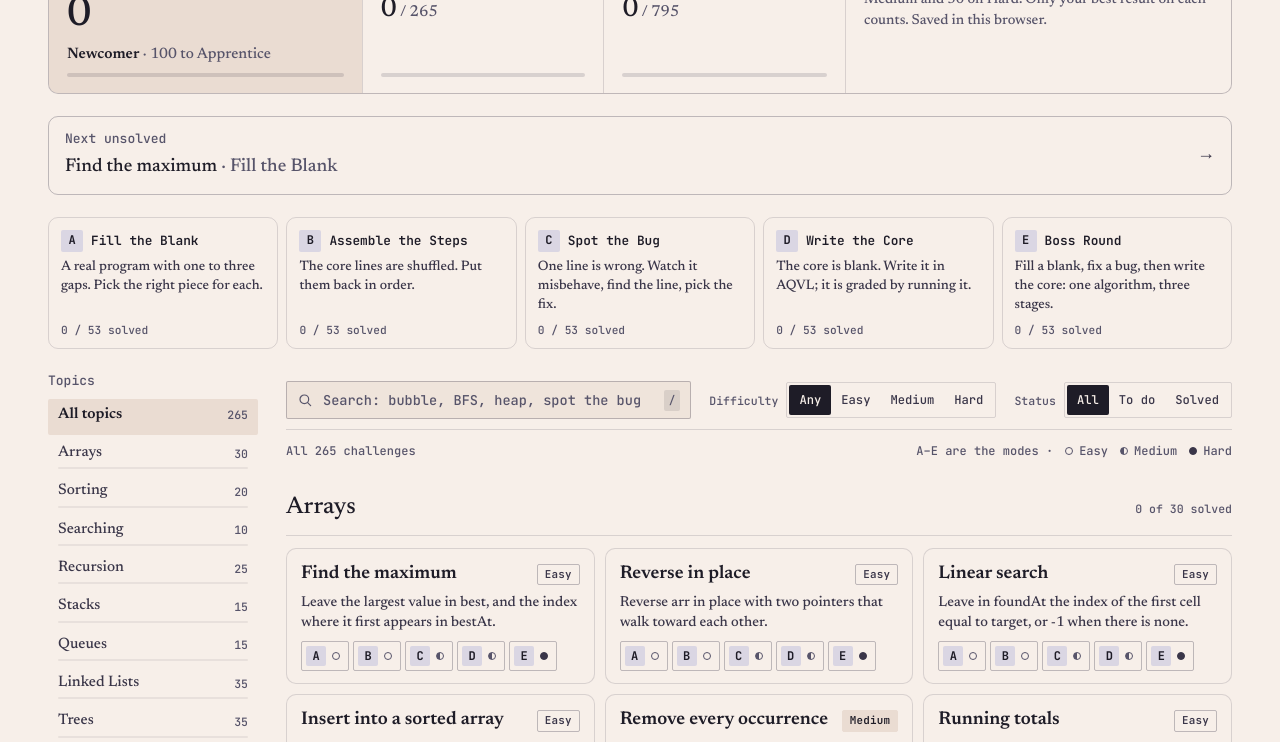
Test: Challenges page › searches, filters by topic and status, and keeps the filters in the address
(page scrolled)
In the search field named "Search challenges": (488, 400) [321,382,656,418], type "bubble"
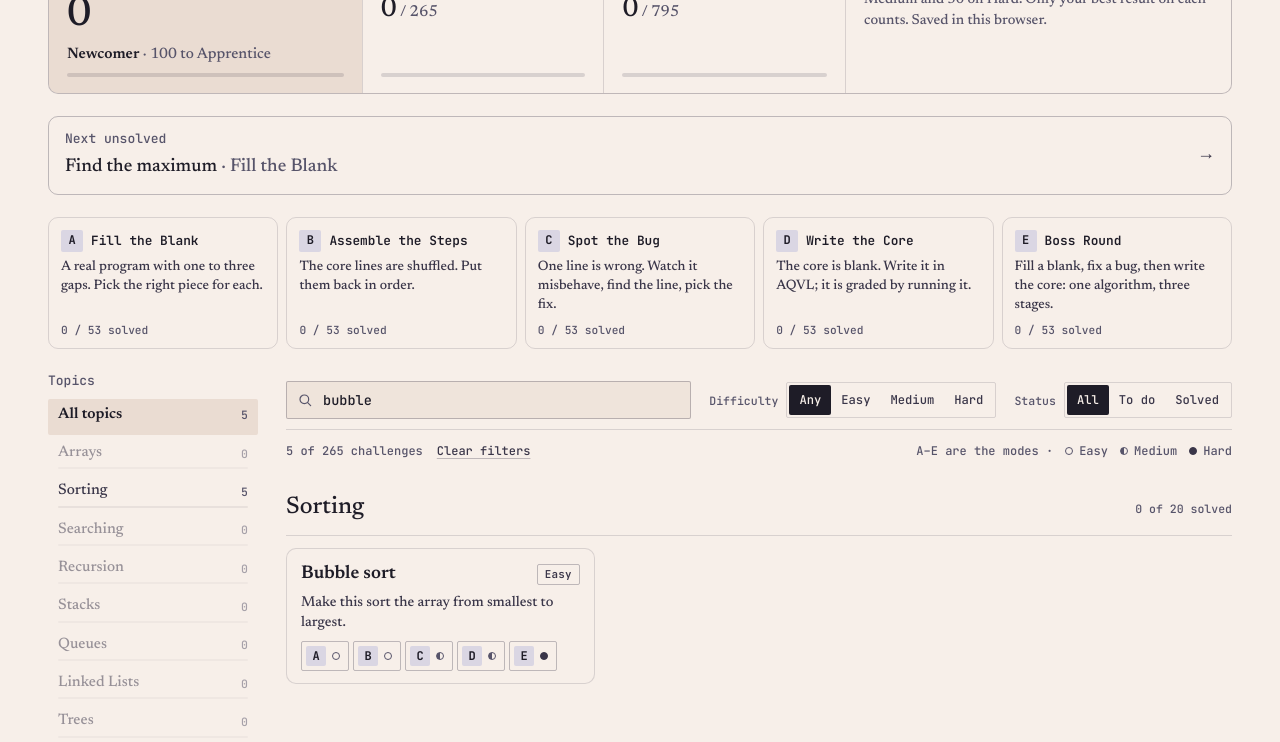
Expected: the number of links named "Bubble sort: " is 5, [301,642,349,672]; [353,642,401,672]; [405,642,453,672]; [457,642,505,672]; [509,642,557,672]
Expected: the text "5 of 265 challenges" is shown, [286,443,423,459]
Replace the text in the search field named "Search challenges" with "spot the bug heap": (501, 400) [321,382,680,418]
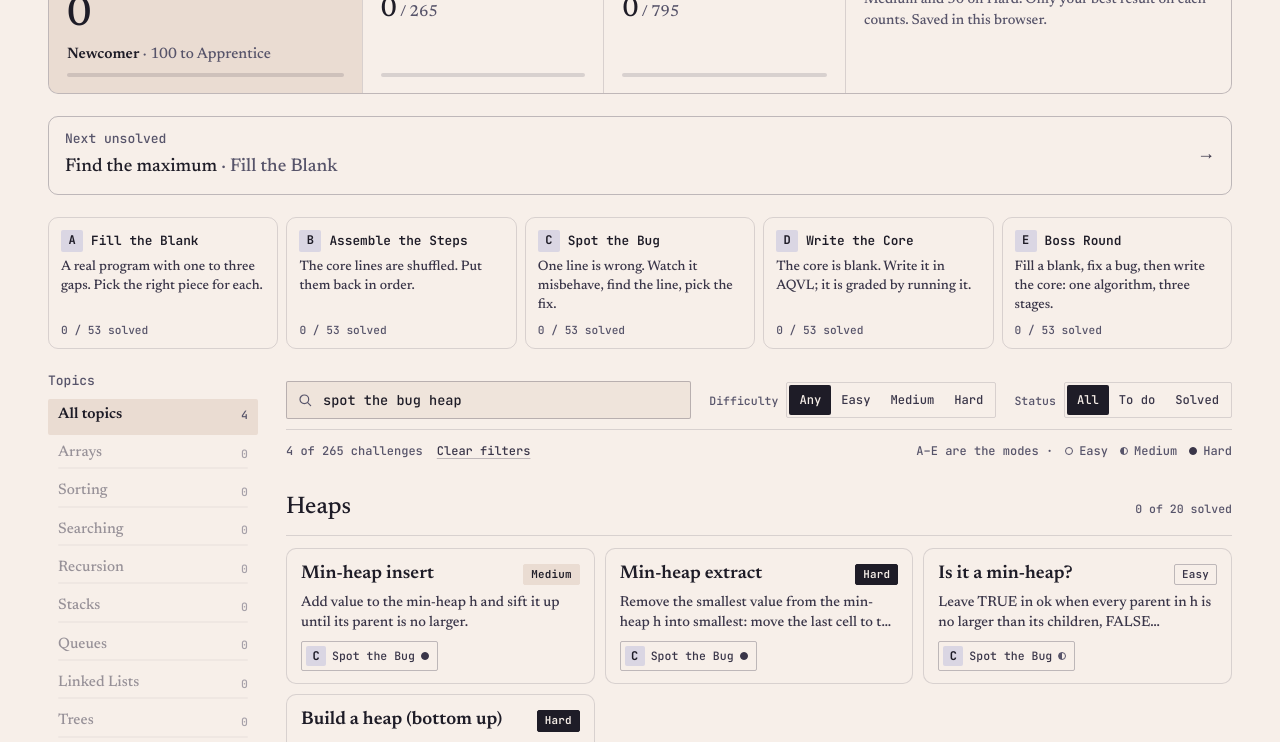
Click the button "Clear filters": (484, 451) [437,442,530,460]
(page scrolled)
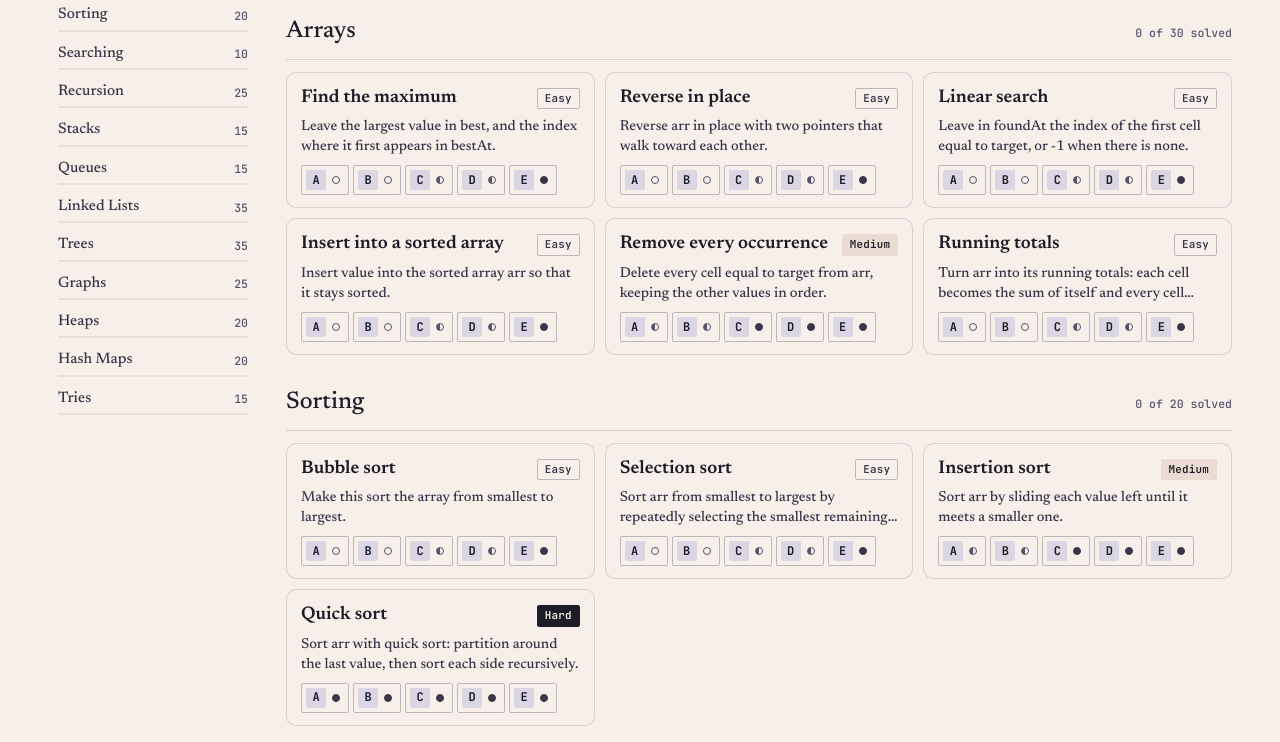
Click the button "Tries 15": (153, 401) [48,383,258,419]
(page scrolled)
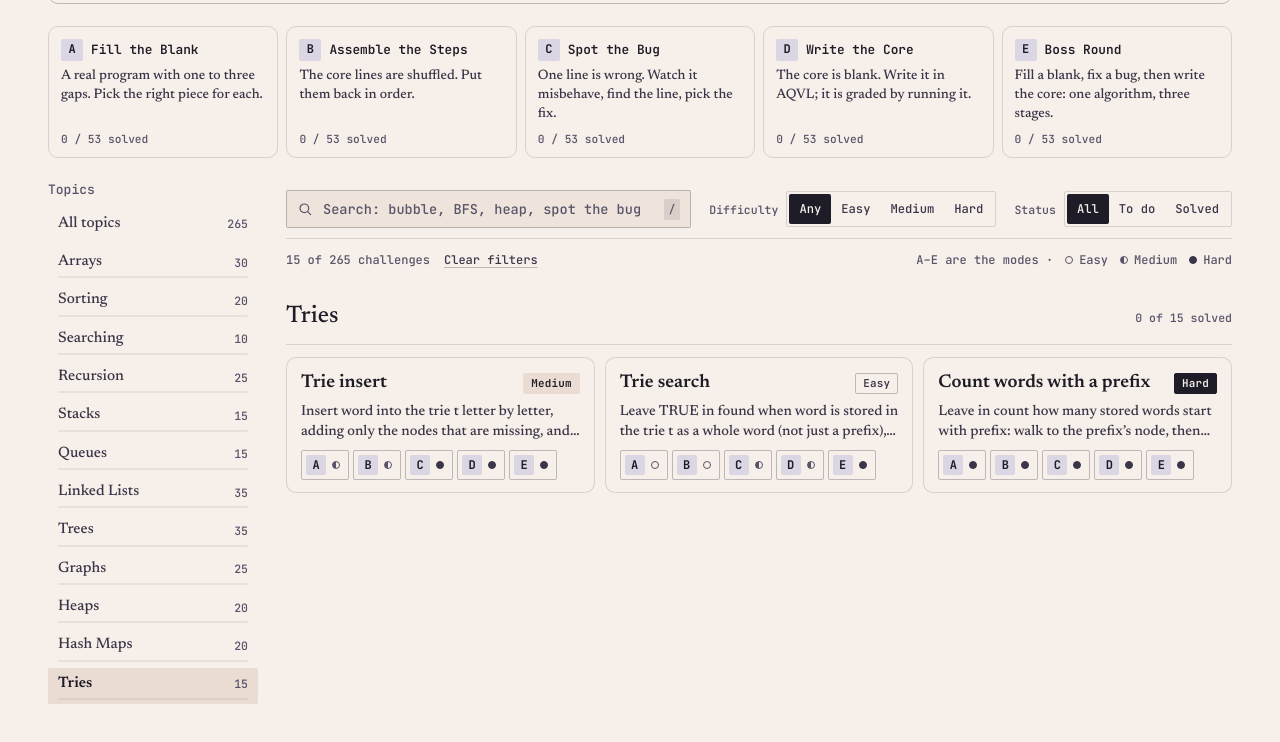
Expected: the heading "Tries" is shown, [286,297,338,336]
Click the radio button labelled "Solved": (1197, 209) [1165,194,1229,224]
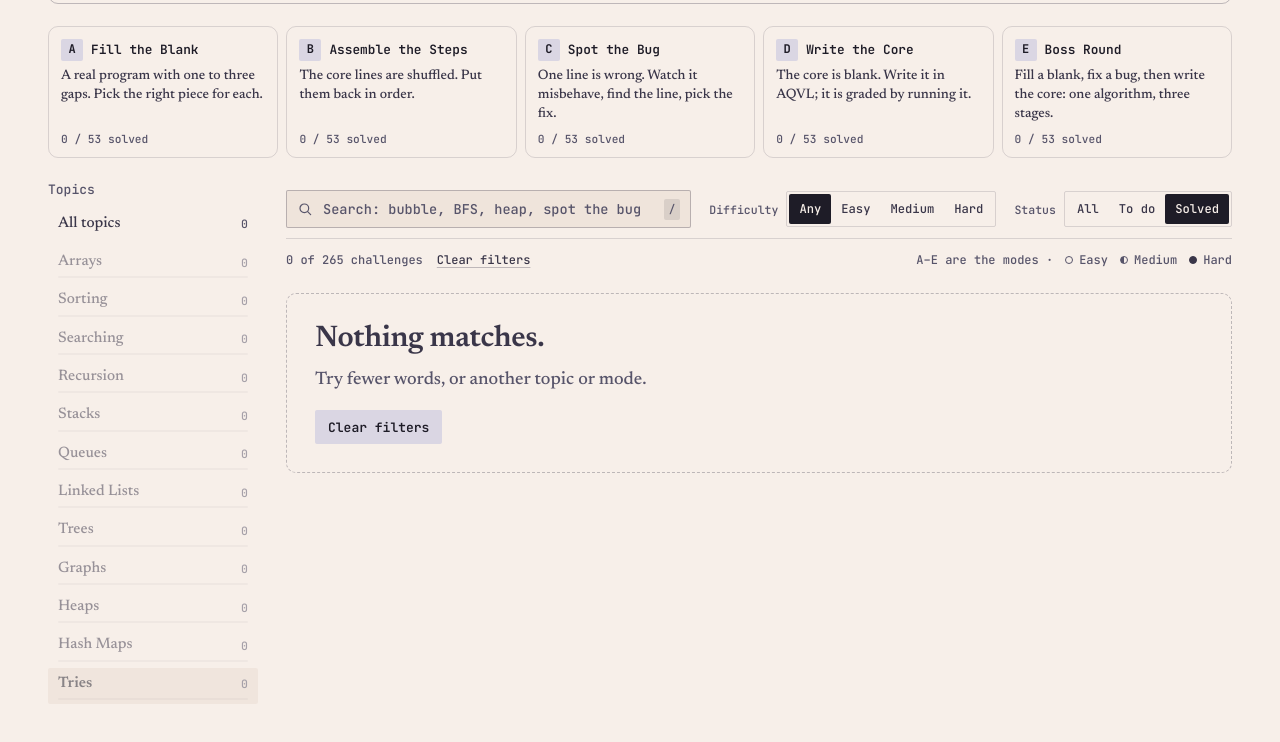
Expected: the text "Nothing matches." is shown, [315,324,544,354]
